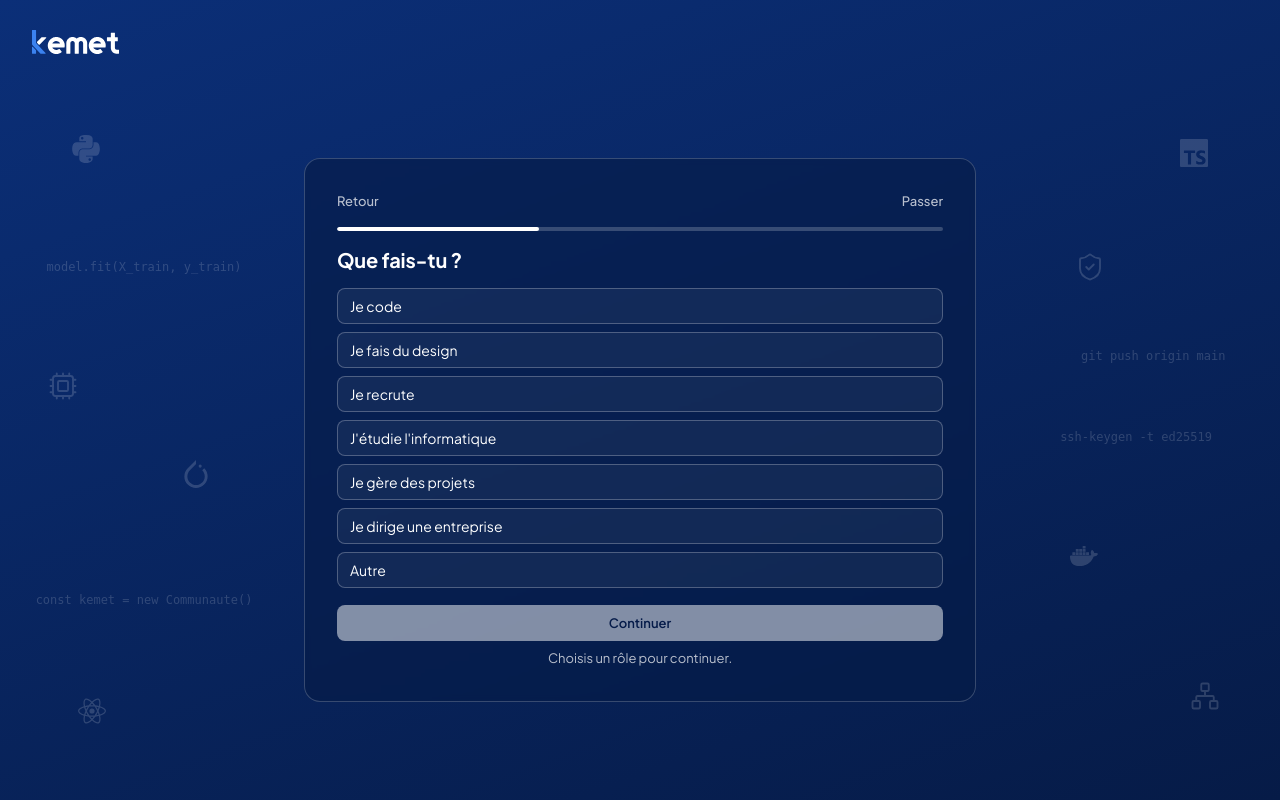
OnboardingPage › précise le rôle sur l'écran suivant : freelance ou en entreprise
The image size is (1280, 800).
Click the radio button labelled "Je code". click: (640, 306)
box: [337, 288, 943, 324]
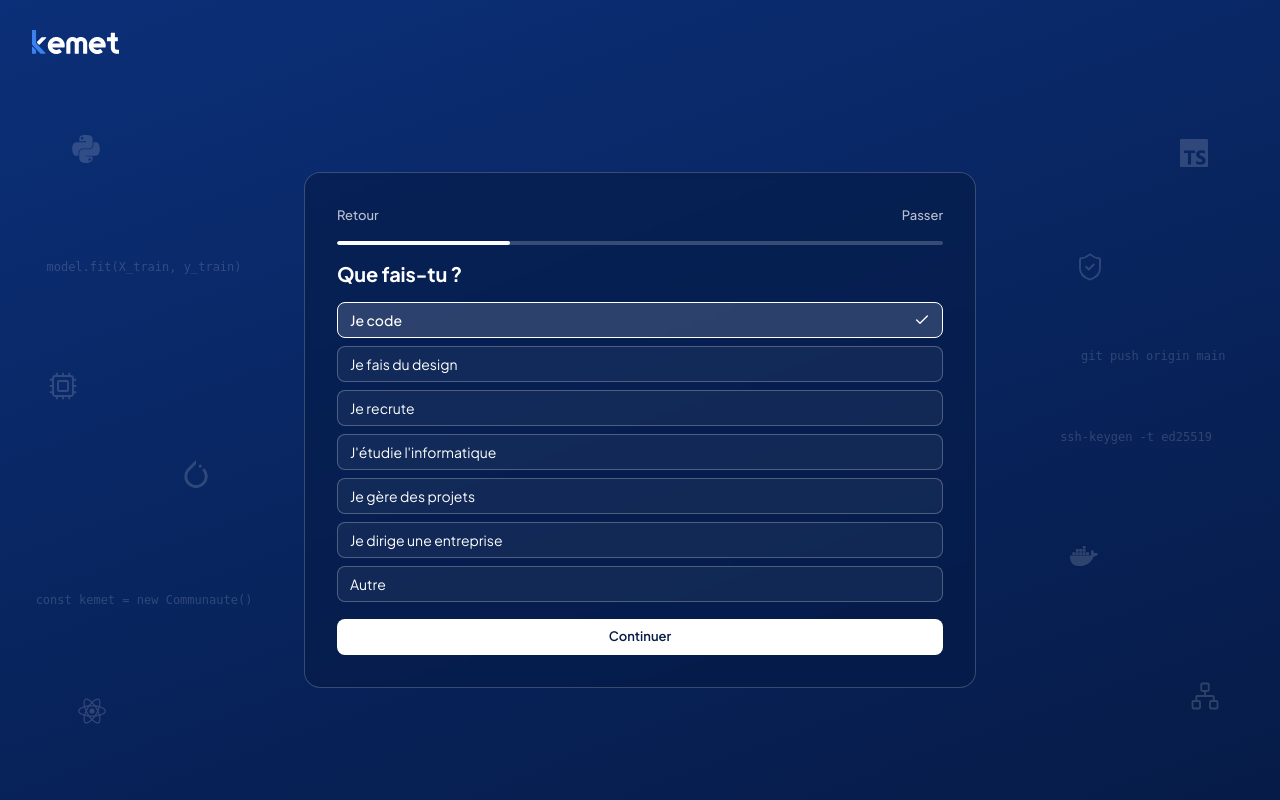
Click the button "Continuer". click: (640, 637)
box: [337, 619, 943, 655]
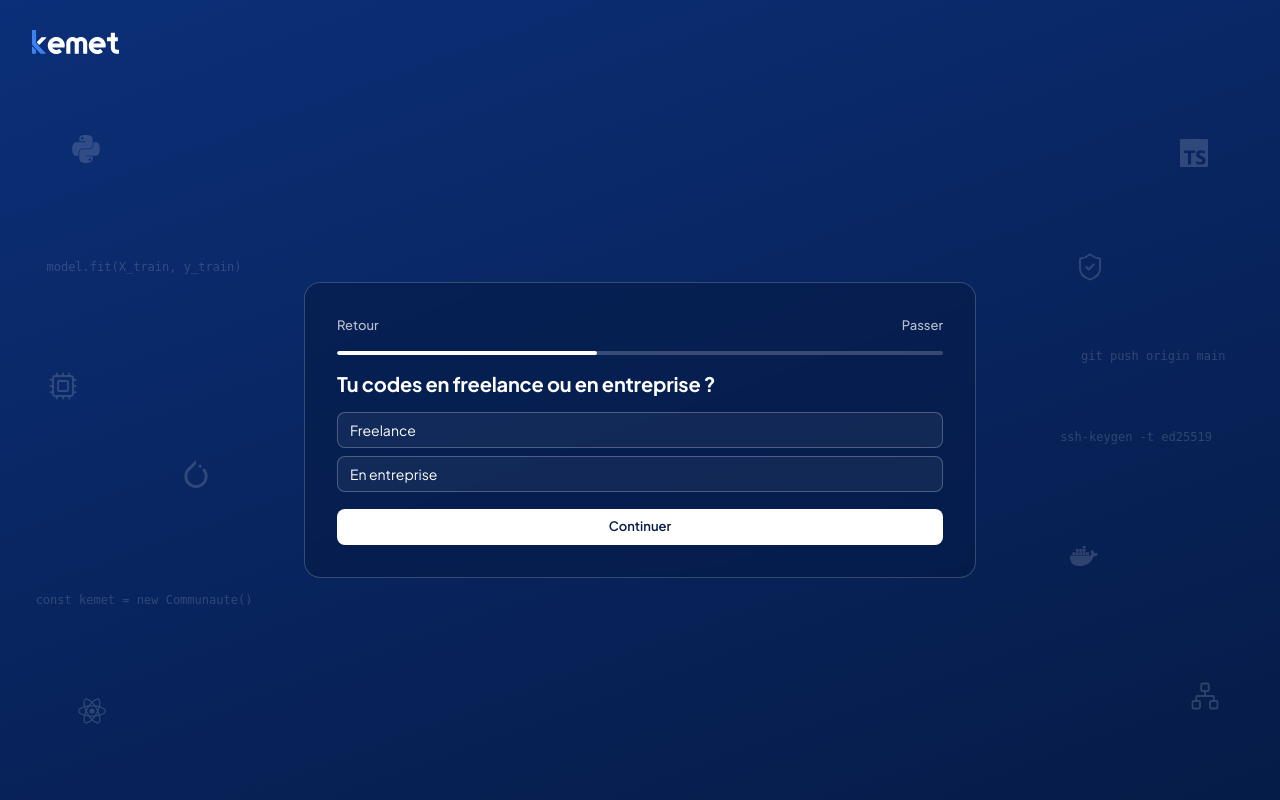
Expected: the heading "Tu codes en freelance ou en entreprise ?" is shown, [337, 371, 715, 396]
Click the radio button labelled "En entreprise". click: (640, 474)
box: [337, 456, 943, 492]
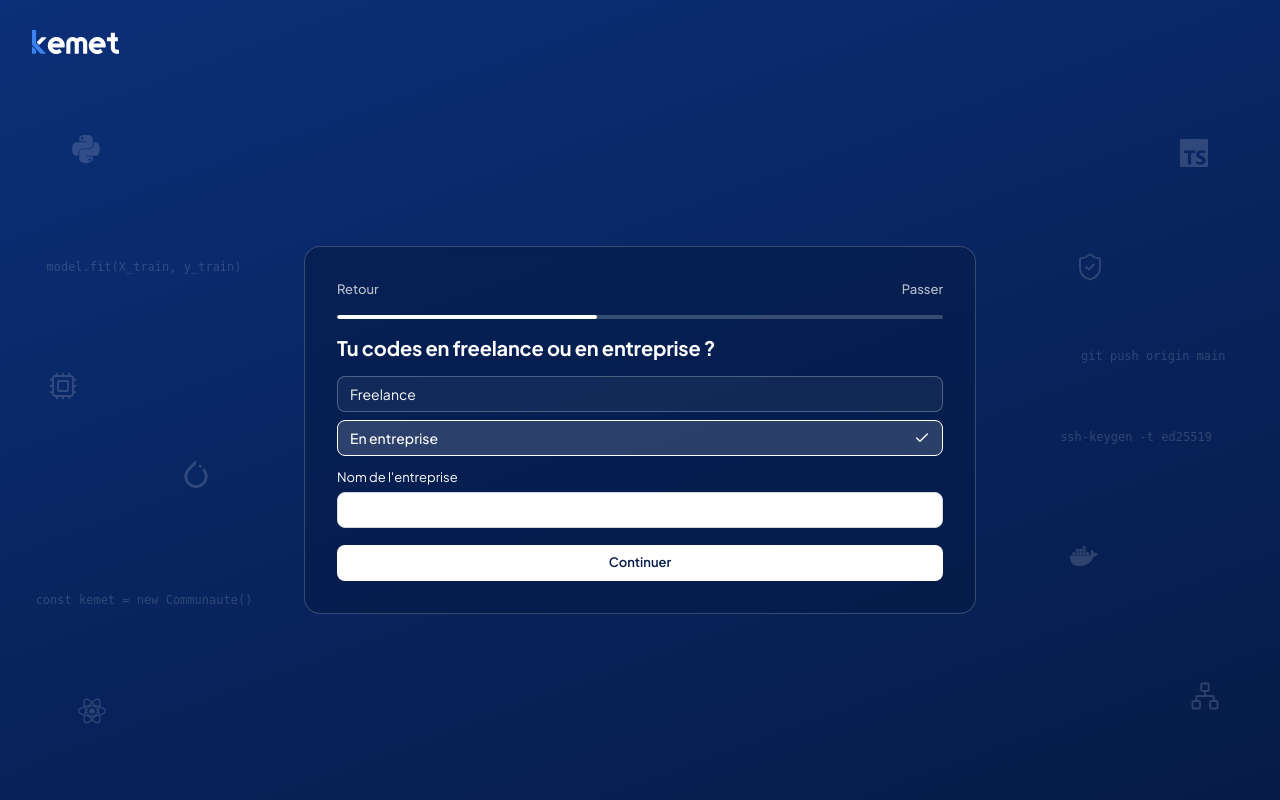
Type " Kobo Market " into the field labelled "Nom de l'entreprise". click: (640, 510)
box: [337, 492, 943, 528]
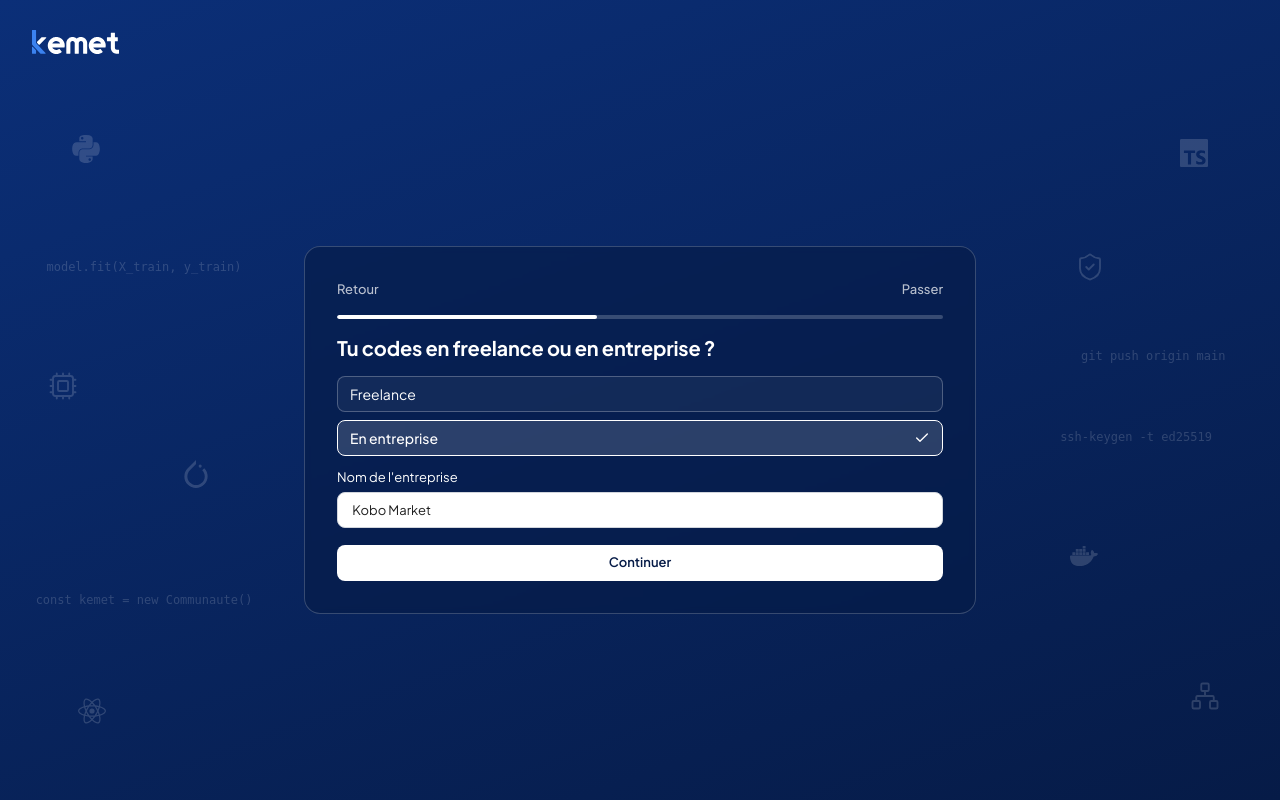
Click the button "Continuer". click: (640, 563)
box: [337, 545, 943, 581]
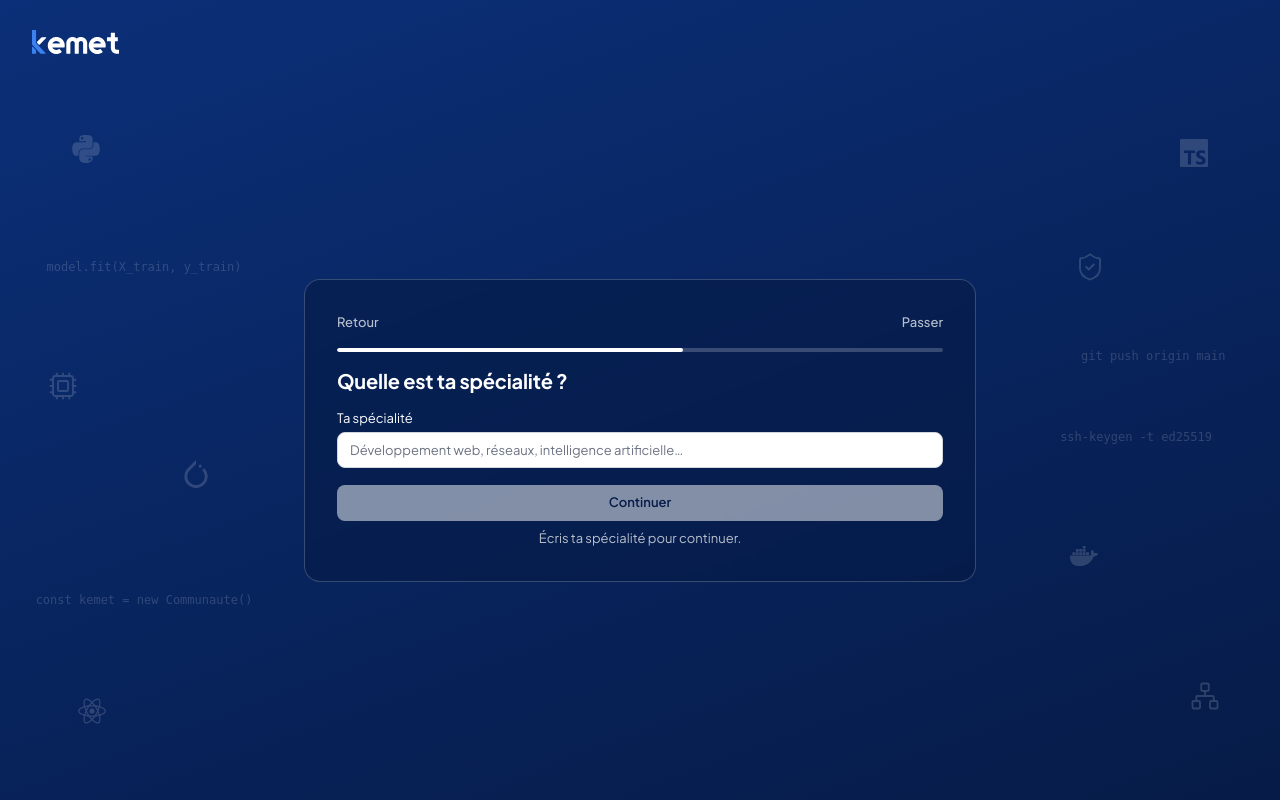
Expected: the heading "Quelle est ta spécialité ?" is shown, [337, 368, 568, 392]
